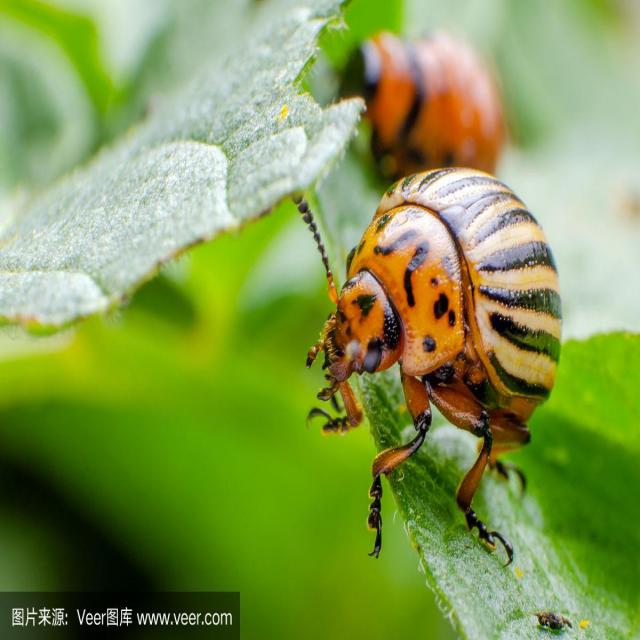ShuCaiHuaBanChong-Grown-: (311, 125, 574, 472)
